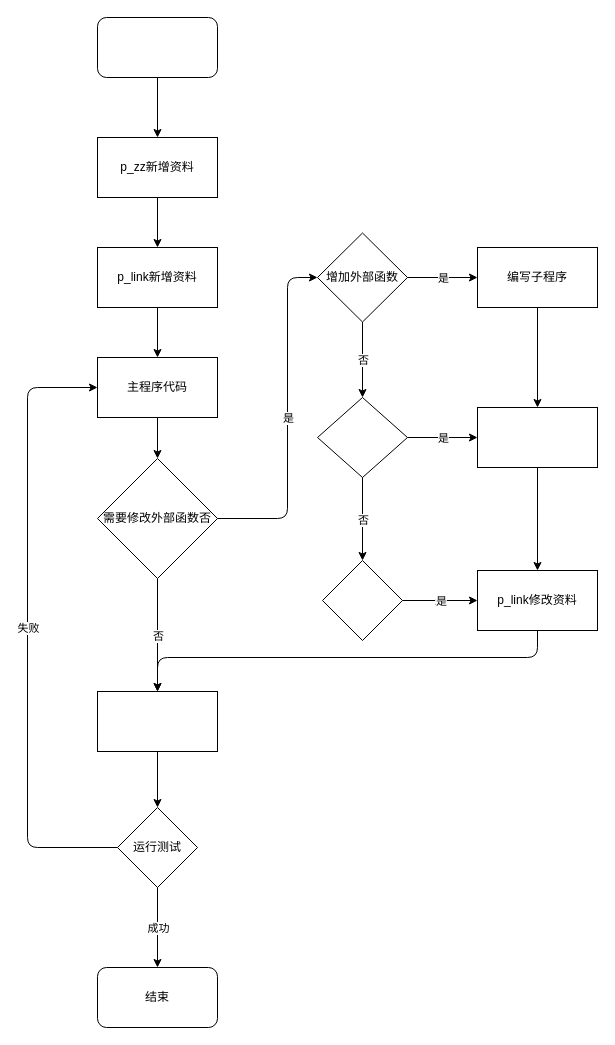
Some shapes in this 615 by 1045 pixel diagram are drawn without their labels. The centre of each missing label's shape, as x and y in pixels:
"修改外部函数" belongs at pixel 362 437.
"删除外部函数" belongs at pixel 362 600.
"开始" belongs at pixel 157 47.
"编译子程序" belongs at pixel 537 437.
"编译链接主程序" belongs at pixel 157 721.
